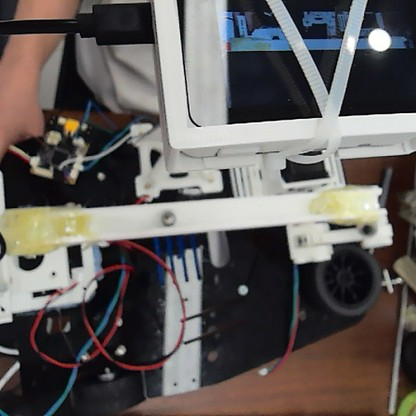ironball: (158, 208, 177, 226)
